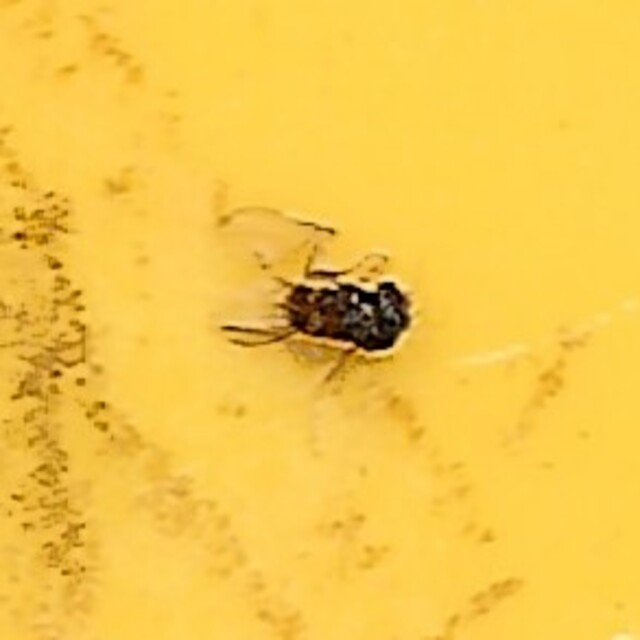Brachycera: (218, 259, 422, 381)
